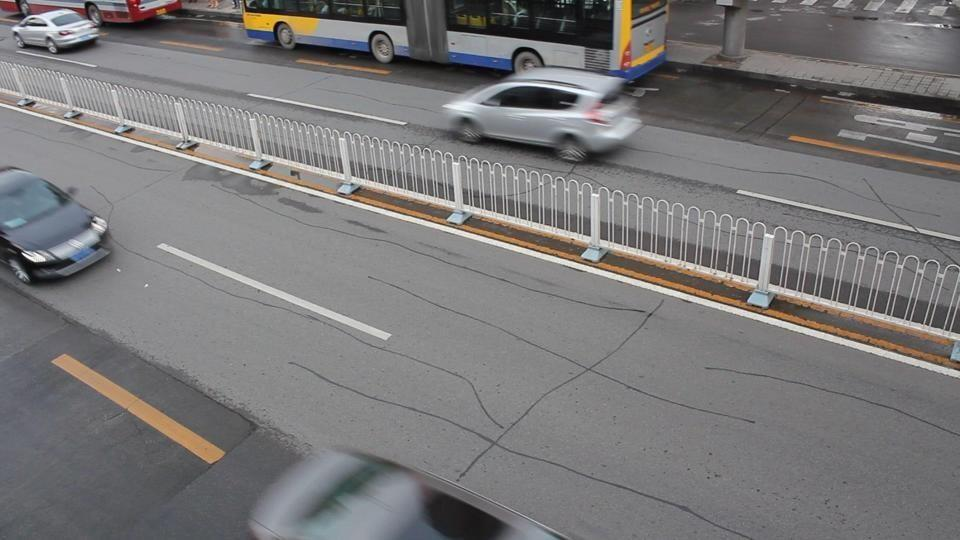car: (442, 68, 643, 162), (0, 166, 111, 284), (12, 8, 100, 53)
